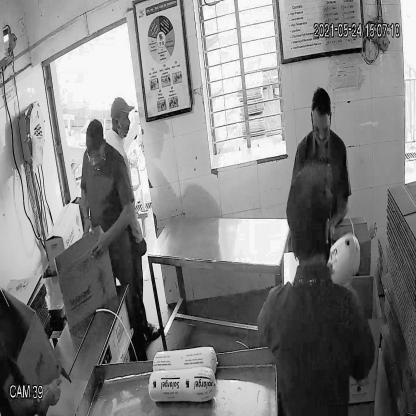goggles: (84, 145, 106, 165)
